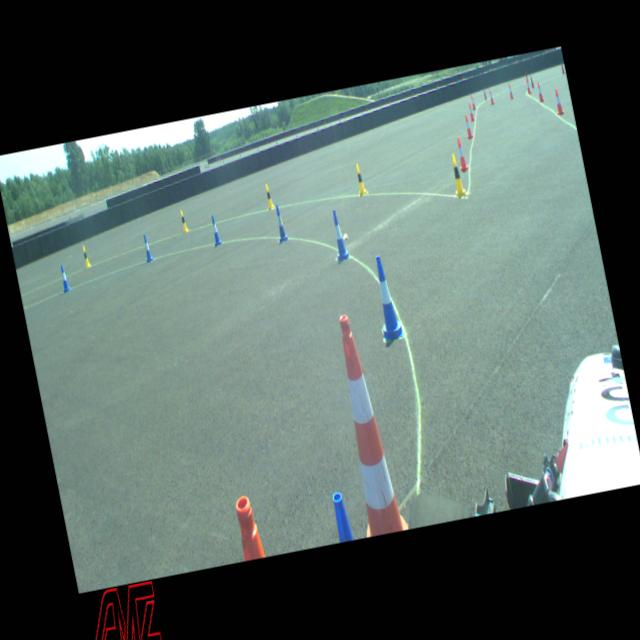blue_cone: (368, 256, 405, 342), (328, 208, 350, 262), (273, 204, 289, 242), (209, 214, 223, 246), (58, 264, 72, 292), (142, 233, 154, 263)
large_orange_cone: (325, 311, 410, 538)
orange_cone: (454, 136, 469, 174), (552, 88, 564, 115), (462, 114, 473, 138), (466, 102, 476, 121), (536, 82, 544, 104), (507, 83, 515, 100), (524, 76, 531, 95), (470, 95, 477, 110), (488, 90, 495, 104)
yellow_cone: (448, 152, 467, 198), (352, 162, 368, 195), (264, 183, 274, 209), (81, 245, 90, 268), (179, 210, 188, 232)
